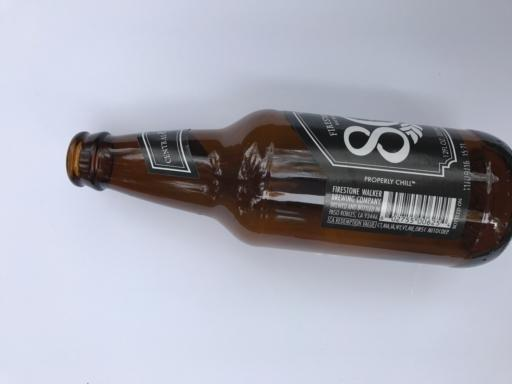botolkaca: (66, 109, 512, 268)
